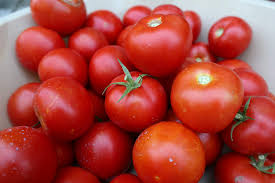milho: (24, 17, 264, 177)
